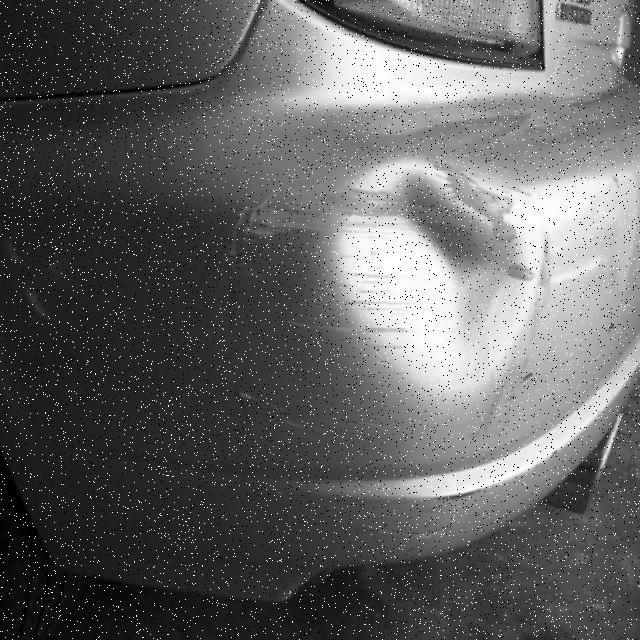rear-bumper-dent: (9, 90, 639, 639)
